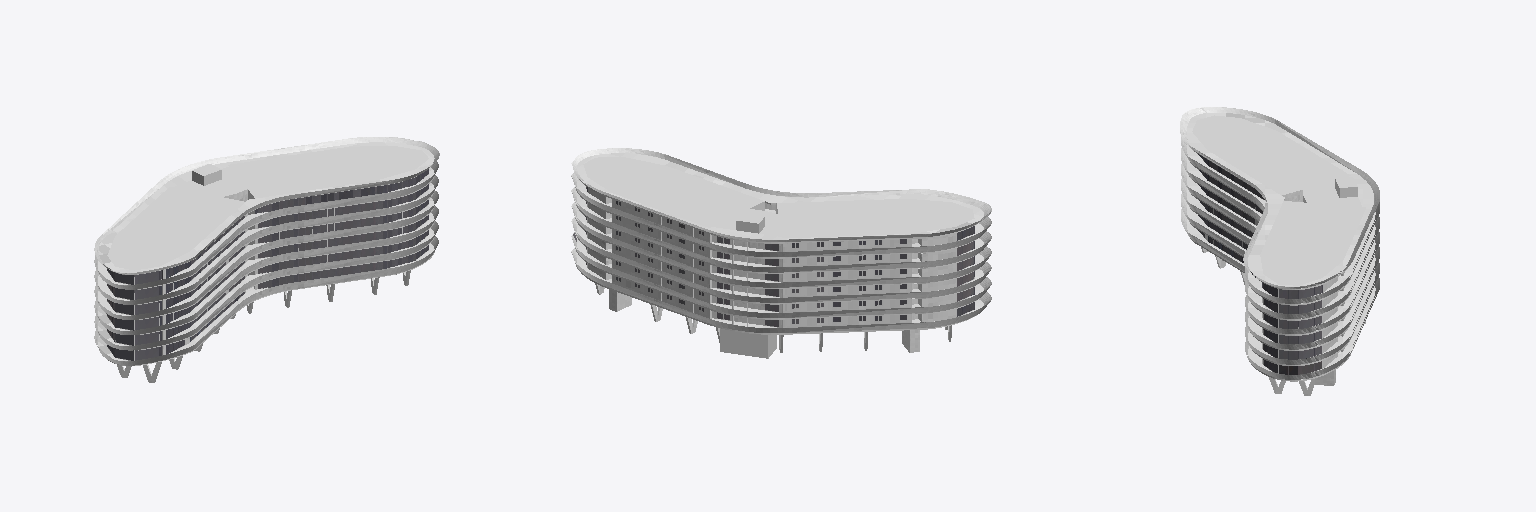
3 views of the same model, side by side, from view 1: azimuth 30°, elevation 25°; view 2: azimuth 150°, elevation 25°; view 3: azimuth 270°, elevation 25° (orthographic).
Visible parts, largest first — view 1: center_building; view 2: center_building; view 3: center_building.
Part boxes in pixels (x1,y1,x2,y2): center_building: (94,137,439,382); center_building: (571,148,991,358); center_building: (1180,107,1379,395).
Size of the model in its own units: 23.51 by 7.99 by 11.06.
1 materials, 1 textured.